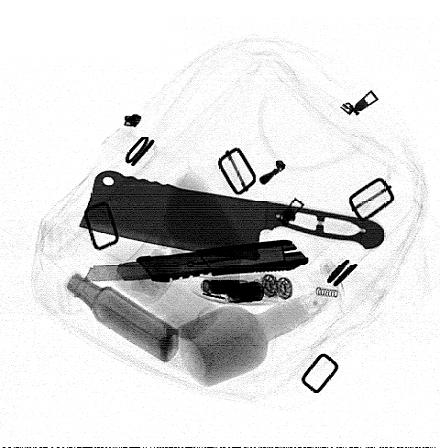Knife: (78, 171, 385, 258), (83, 238, 310, 283)
